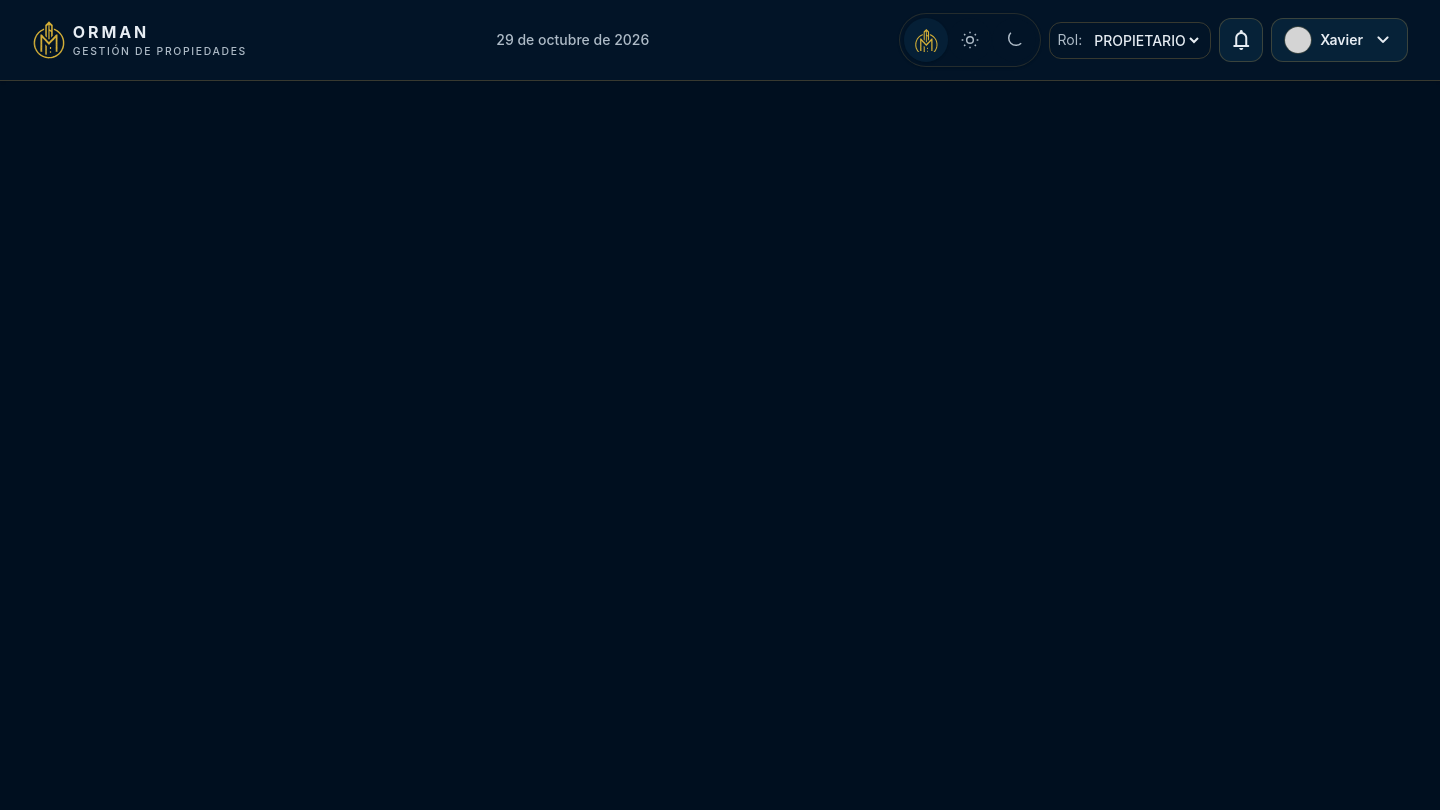
Test: PrivateTopbarComponent › should render all available person name parts and use a direct photo URL only when valid
Step 1. Click the button with aria-label "Abrir perfil" → [1340, 40], box 1271,18 -> 1408,62
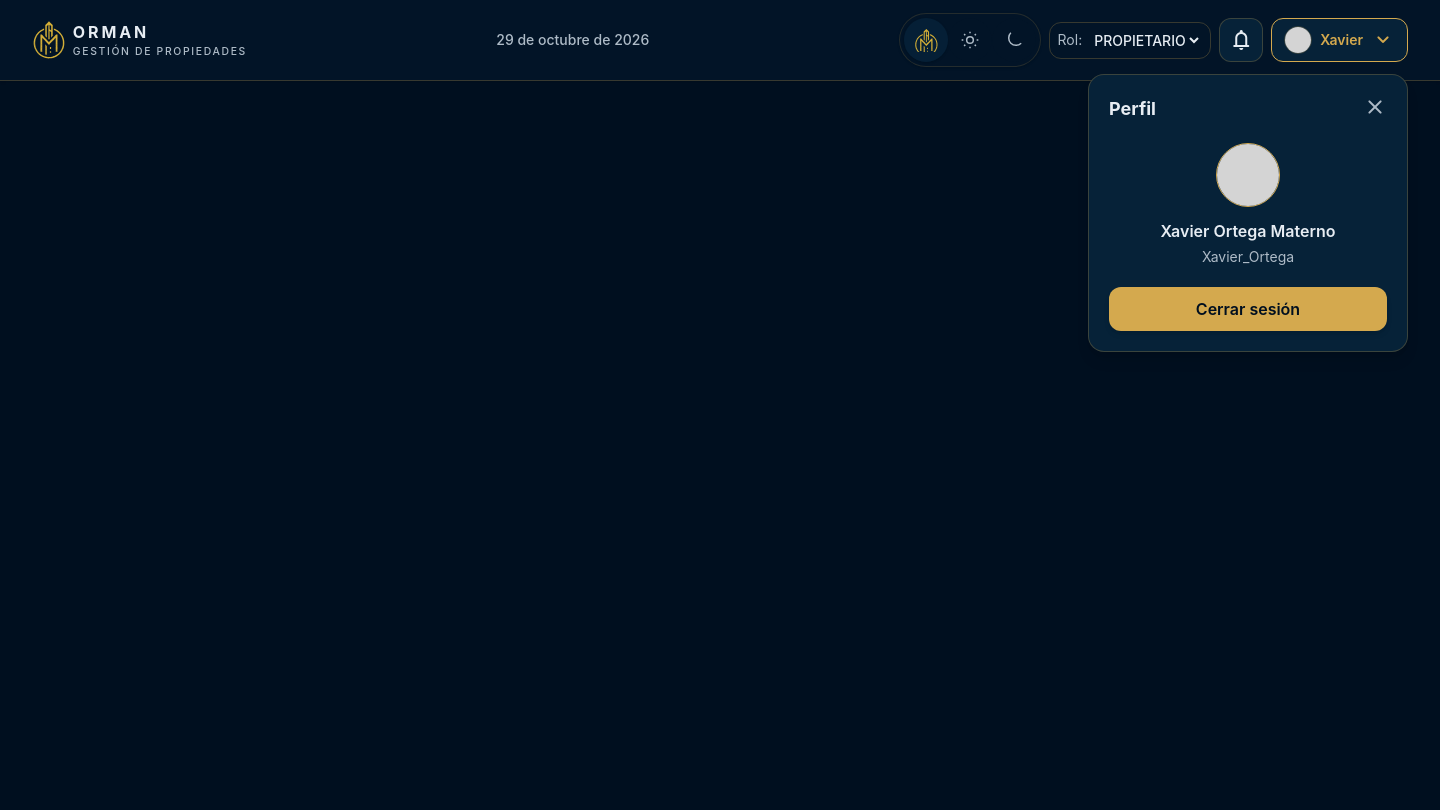
Now the text "Xavier Ortega Materno" is shown, box 1160,219 -> 1336,243
